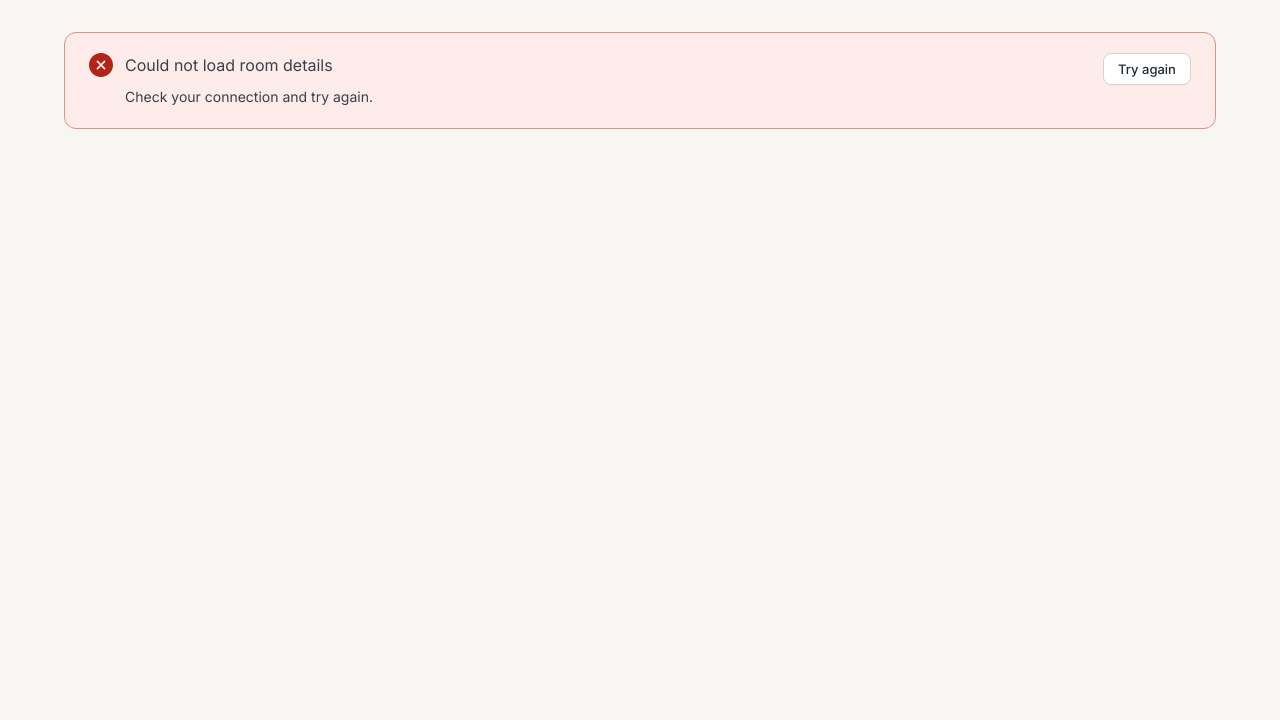
Test: RoomDetailView › renders error Alert with Try again and refetches on retry
Expected: the message "Could not load room details Check your connection and try again. Try again" is shown, [64,32,1216,129]
Expected: the text "Could not load room details" is shown, [125,55,333,75]
Click the button "Try again": [1147, 69] box [1103,53,1191,85]
(page scrolled)
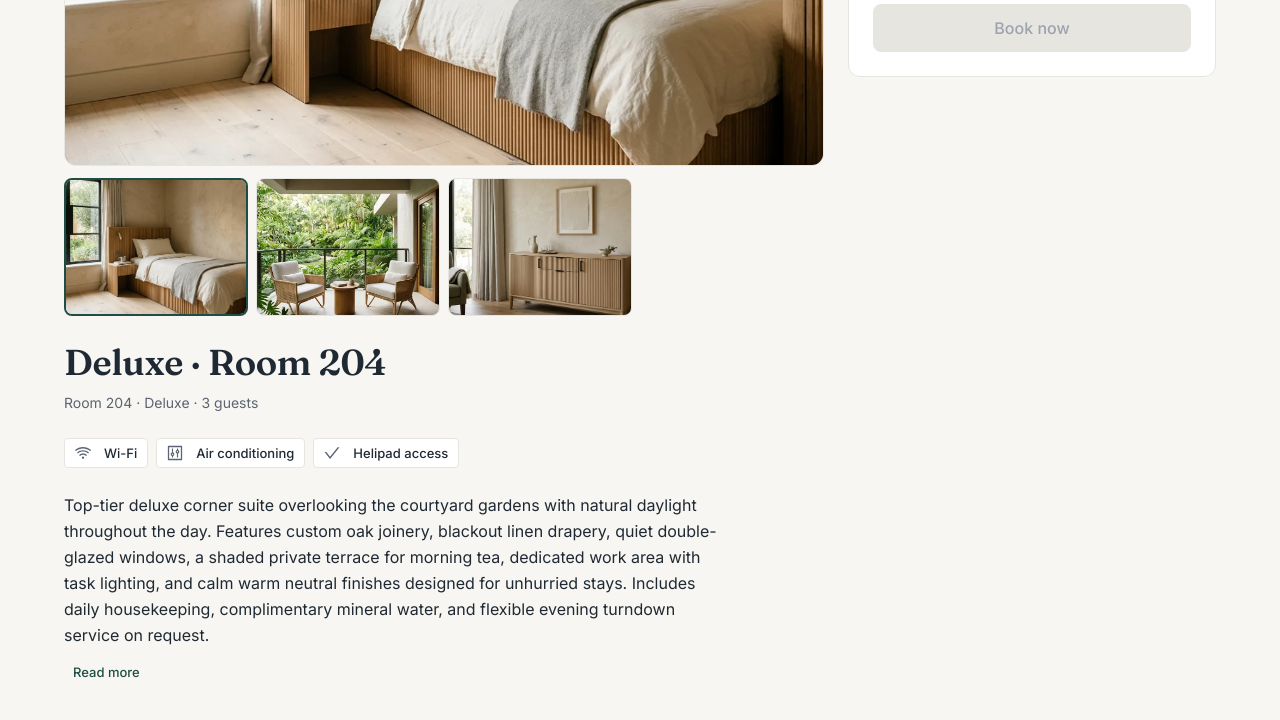
Now the heading "Deluxe · Room 204" is shown, box [64,340,387,384]
